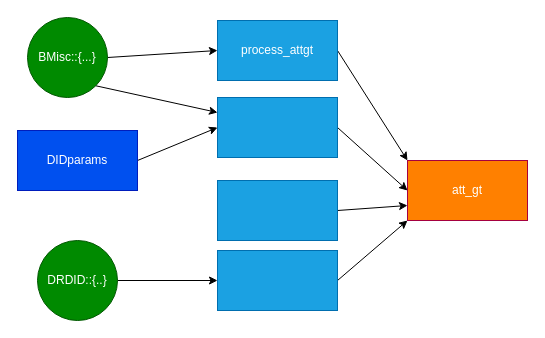
Image size: 545x338. Some labels were removed from this diagram. Each missing label, with the centre of its shape:
"compute_att_gt" belongs at (x=277, y=280).
"mp" belongs at (x=277, y=210).
"pre_process_did" belongs at (x=277, y=127).
